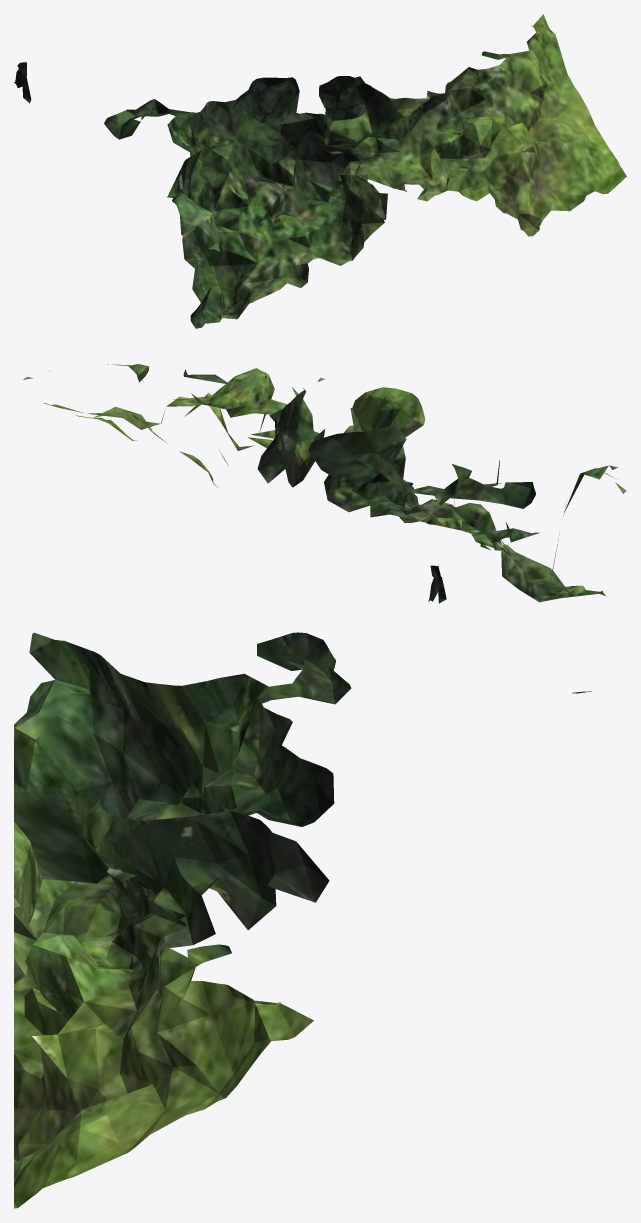
The picture shows the model from 3 angles, top to bottom: view 1: azimuth 30°, elevation 25°; view 2: azimuth 150°, elevation 25°; view 3: azimuth 270°, elevation 25°; orthographic projection. The views are drawn at different scales.
Bounding box in the file's own units: 26.11 × 8.52 × 17.43.
2 materials, 2 textured.
